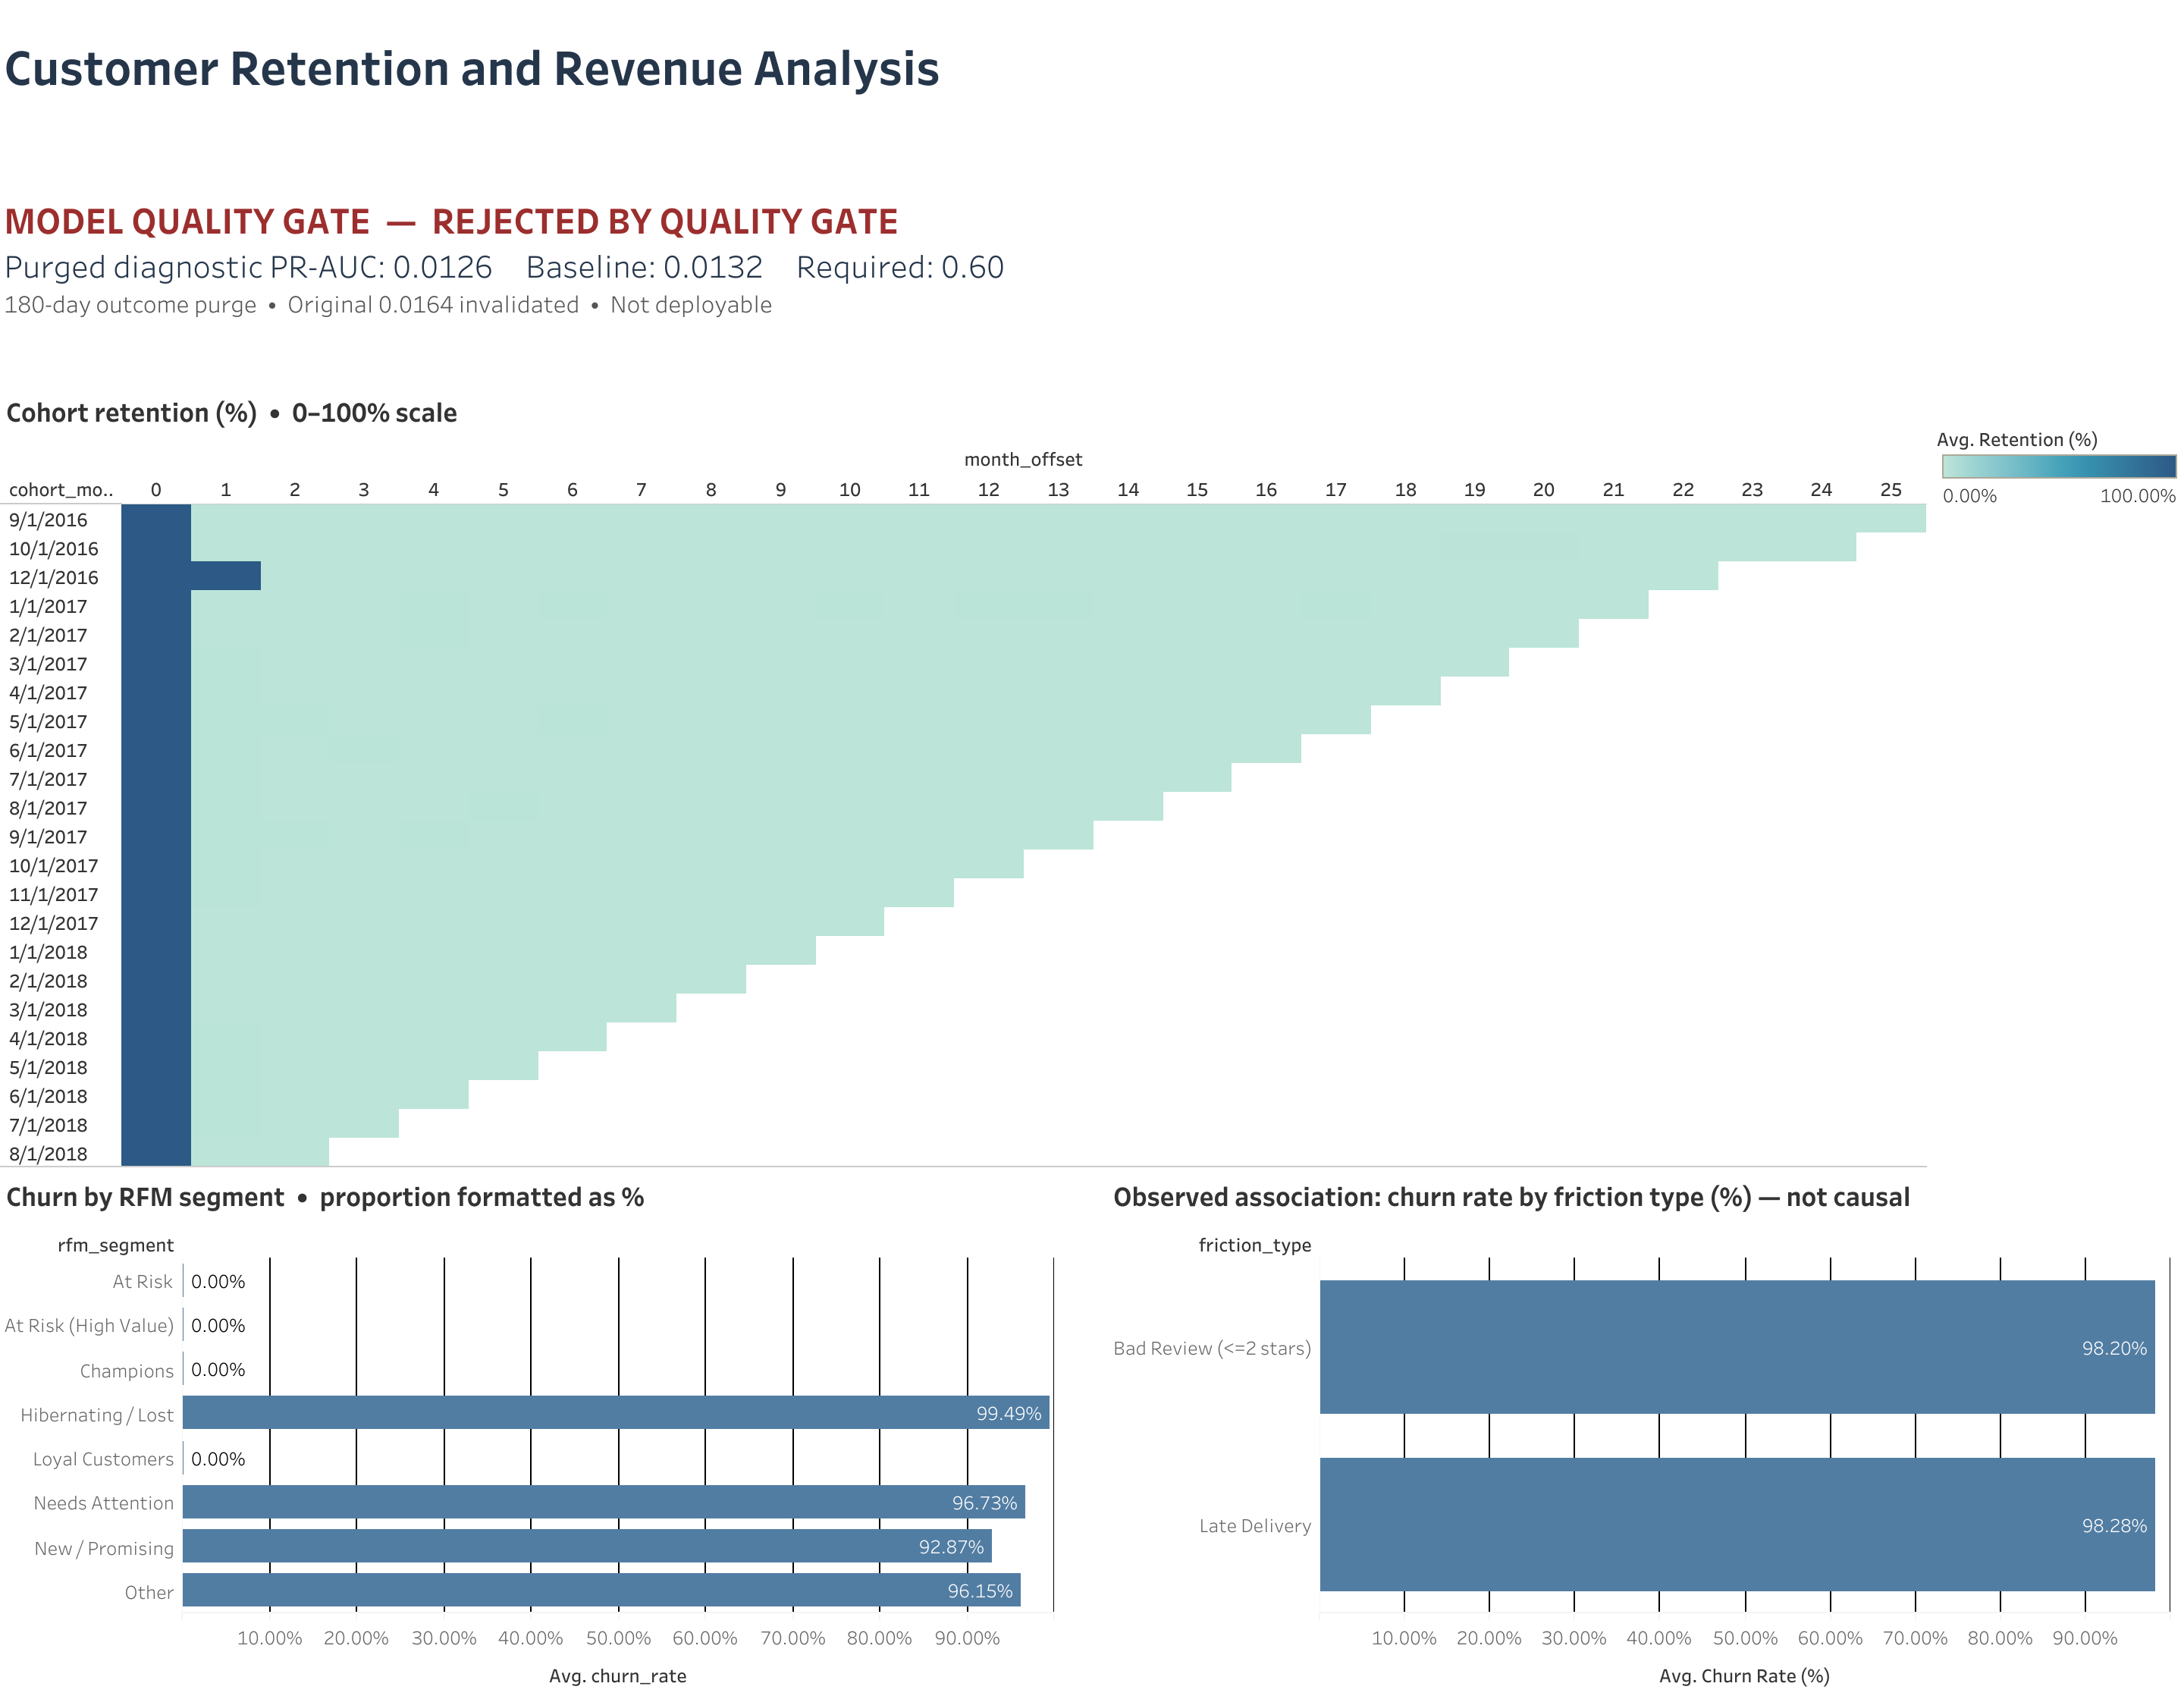

The dashboard page shown, as its layout file describes it:
{"tool":"tableau","page":{"name":"Customer Retention and Revenue Analysis","canvas":[1440,1120],"ordinal":0},"visuals":[{"type":"text","box":[23,11.2,1393.9,84]},{"type":"text","box":[23,95.2,1393.9,162.4]},{"type":"text","box":[1260,240.8,158.4,33.6]},{"type":"worksheet","title":"Cohort Retention Heatmap","mark":"Square","rows":["cohort_month"],"cols":["month_offset"],"box":[23,257.6,1238.4,504]},{"type":"legend","title":"Cohort Retention Heatmap","param":"[federated.cohort_retention].[avg:Retention Proportion:qk]","box":[1267.2,280,158.4,459.2]},{"type":"worksheet","title":"Churn by RFM Segment","mark":"Bar","rows":["rfm_segment"],"cols":["churn_rate"],"box":[23,761.6,676.8,341.6]},{"type":"worksheet","title":"Observed Churn Association by Friction","mark":"Bar","rows":["friction_type"],"cols":["Churn Rate Proportion"],"box":[734.4,761.6,682.6,341.6]}]}

Visuals, with their boxes in screenshot pixels (x1, y1, x2, y2), scaled from the page's 1440x1120 canvas onto the 2184x1699 screenshot:
text: BBox(35, 17, 2149, 144)
text: BBox(35, 144, 2149, 391)
text: BBox(1911, 366, 2151, 416)
"Cohort Retention Heatmap" worksheet (Square marks): BBox(35, 391, 1913, 1155)
"Cohort Retention Heatmap" legend: BBox(1922, 425, 2162, 1121)
"Churn by RFM Segment" worksheet (Bar marks): BBox(35, 1155, 1062, 1673)
"Observed Churn Association by Friction" worksheet (Bar marks): BBox(1114, 1155, 2149, 1673)
